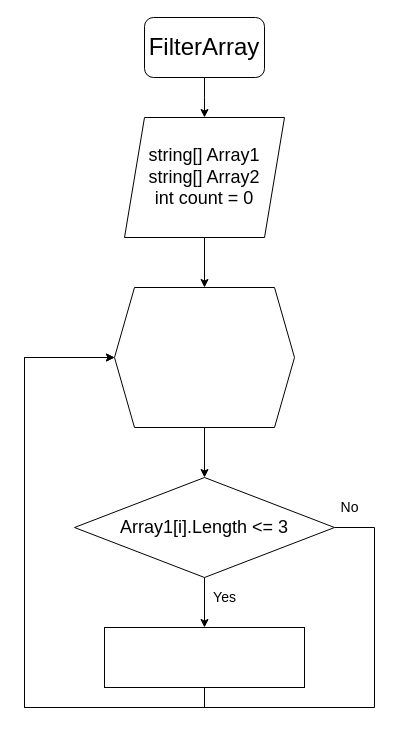
Some shapes in this 400 by 733 pixel diagram are drawn without their labels. Here are the shapes that lost their labels. From the top down, the centre of each, then its label:
At (204,357): "for int i = 0; i<Array1.Length; i++".
At (204,657): "Array2[count] = Array1[i] count ++".
